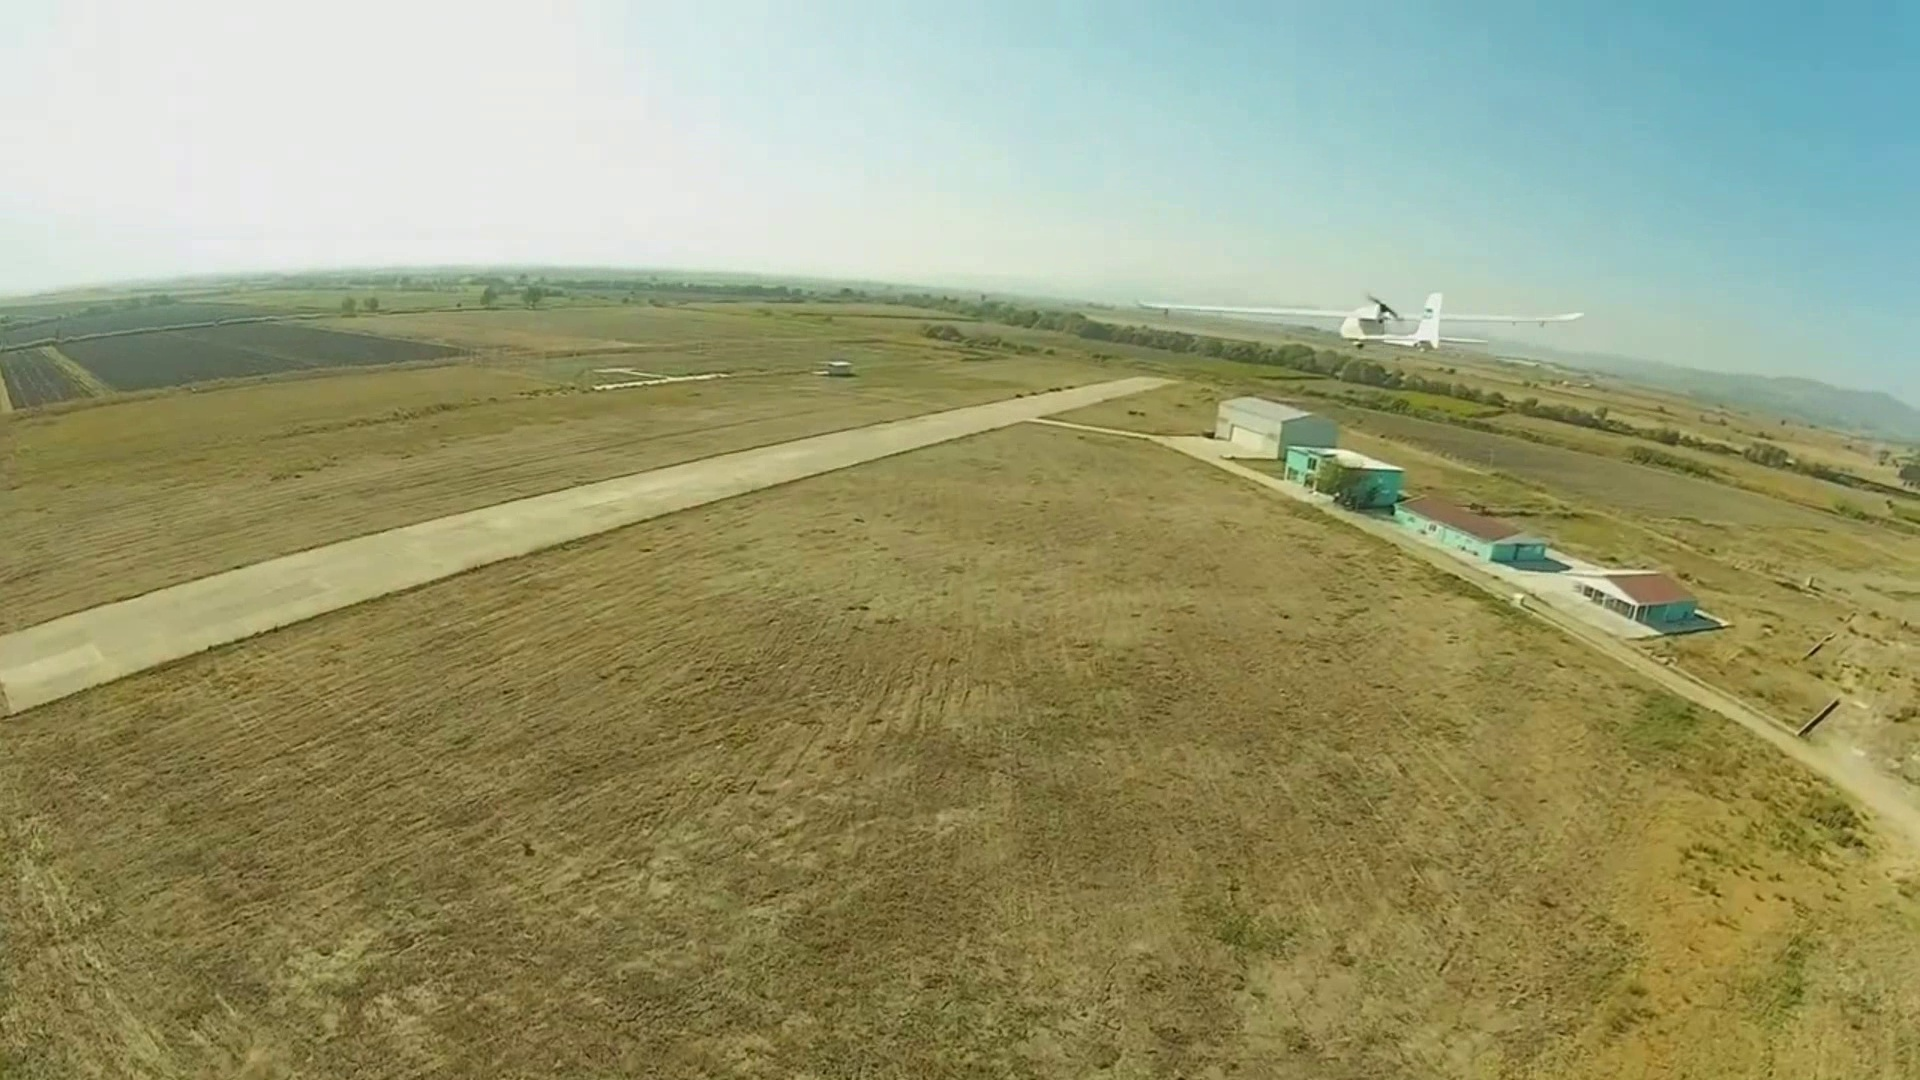airplane: (1337, 284, 1586, 355), (1338, 287, 1511, 347)
